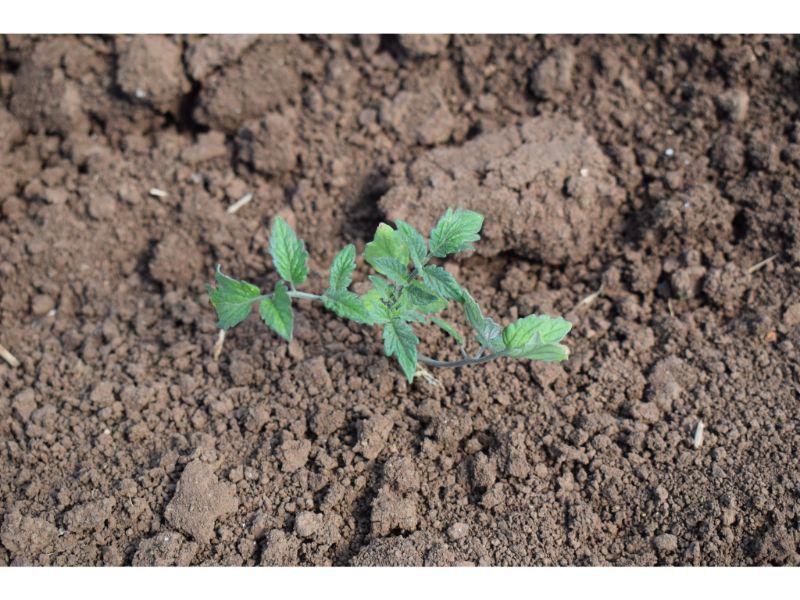tomato: (207, 209, 570, 384)
